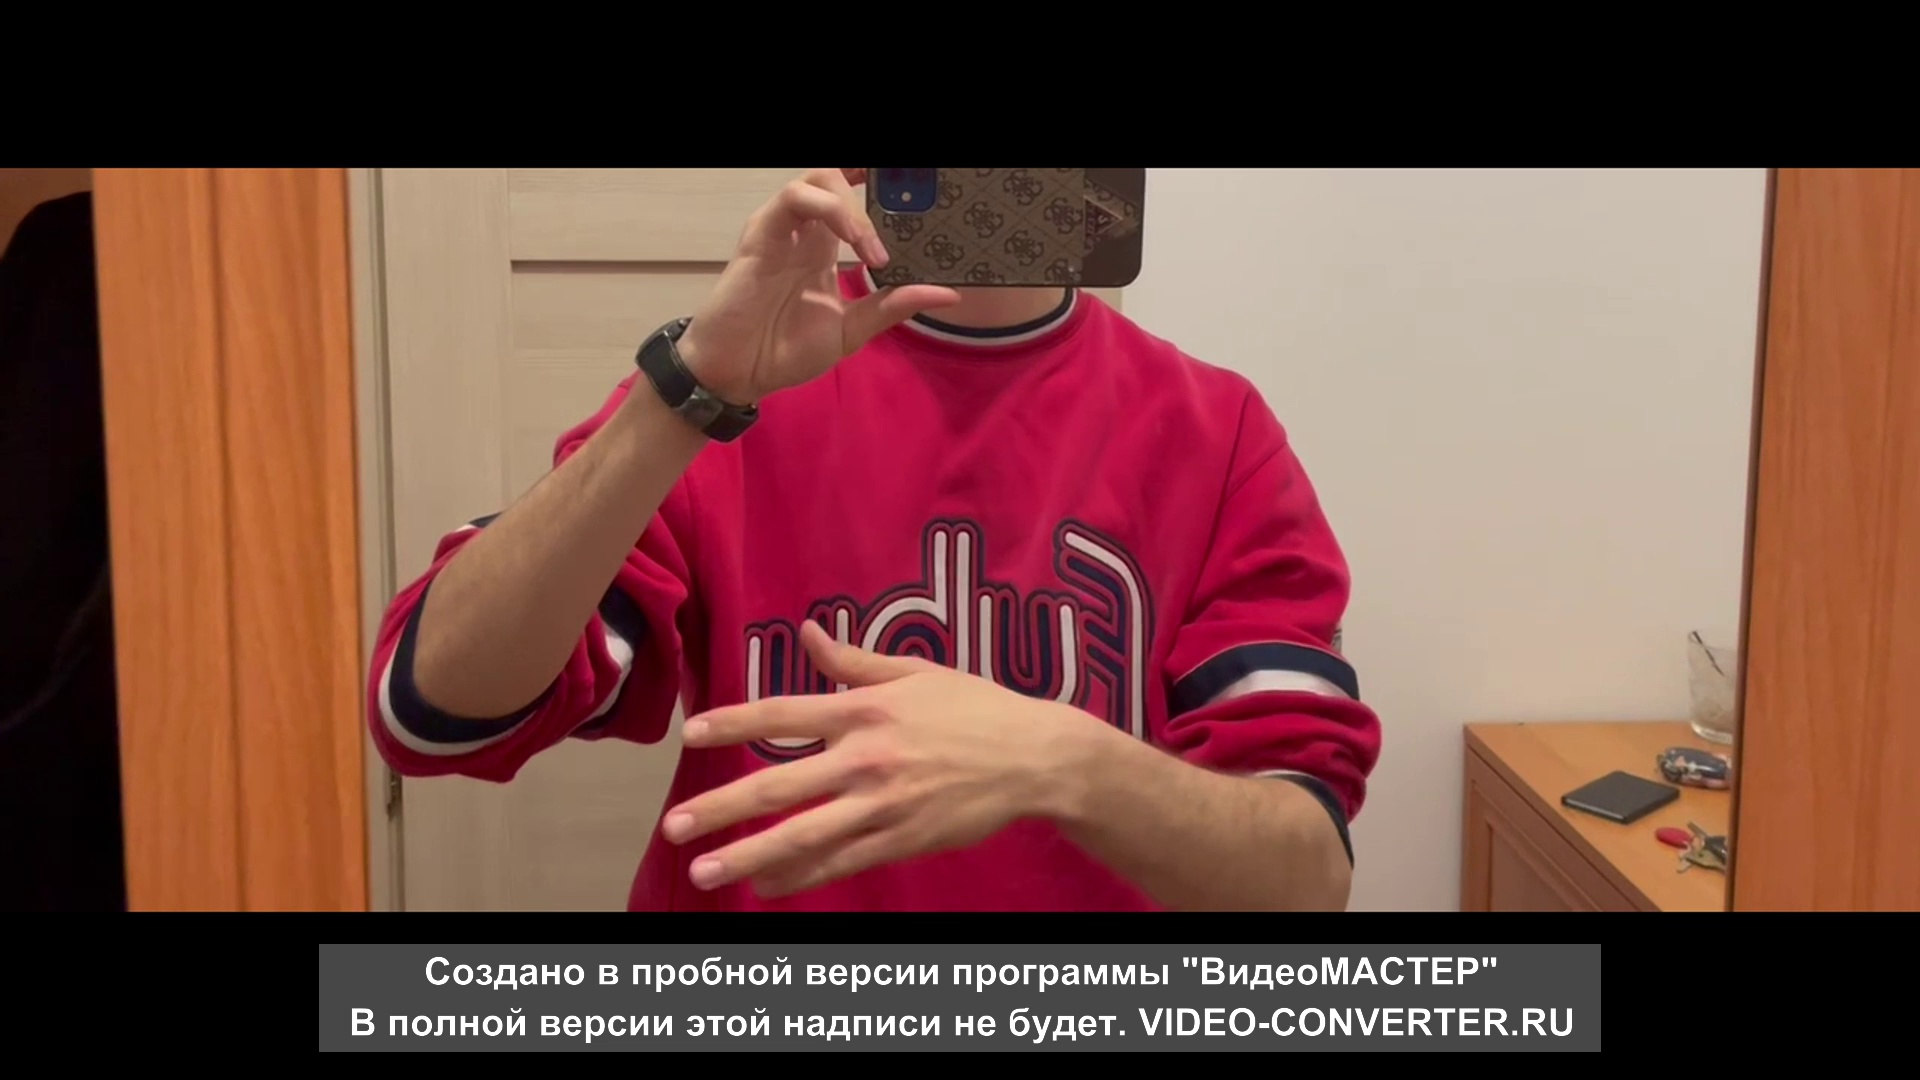Кисть: (662, 618, 1019, 901)
